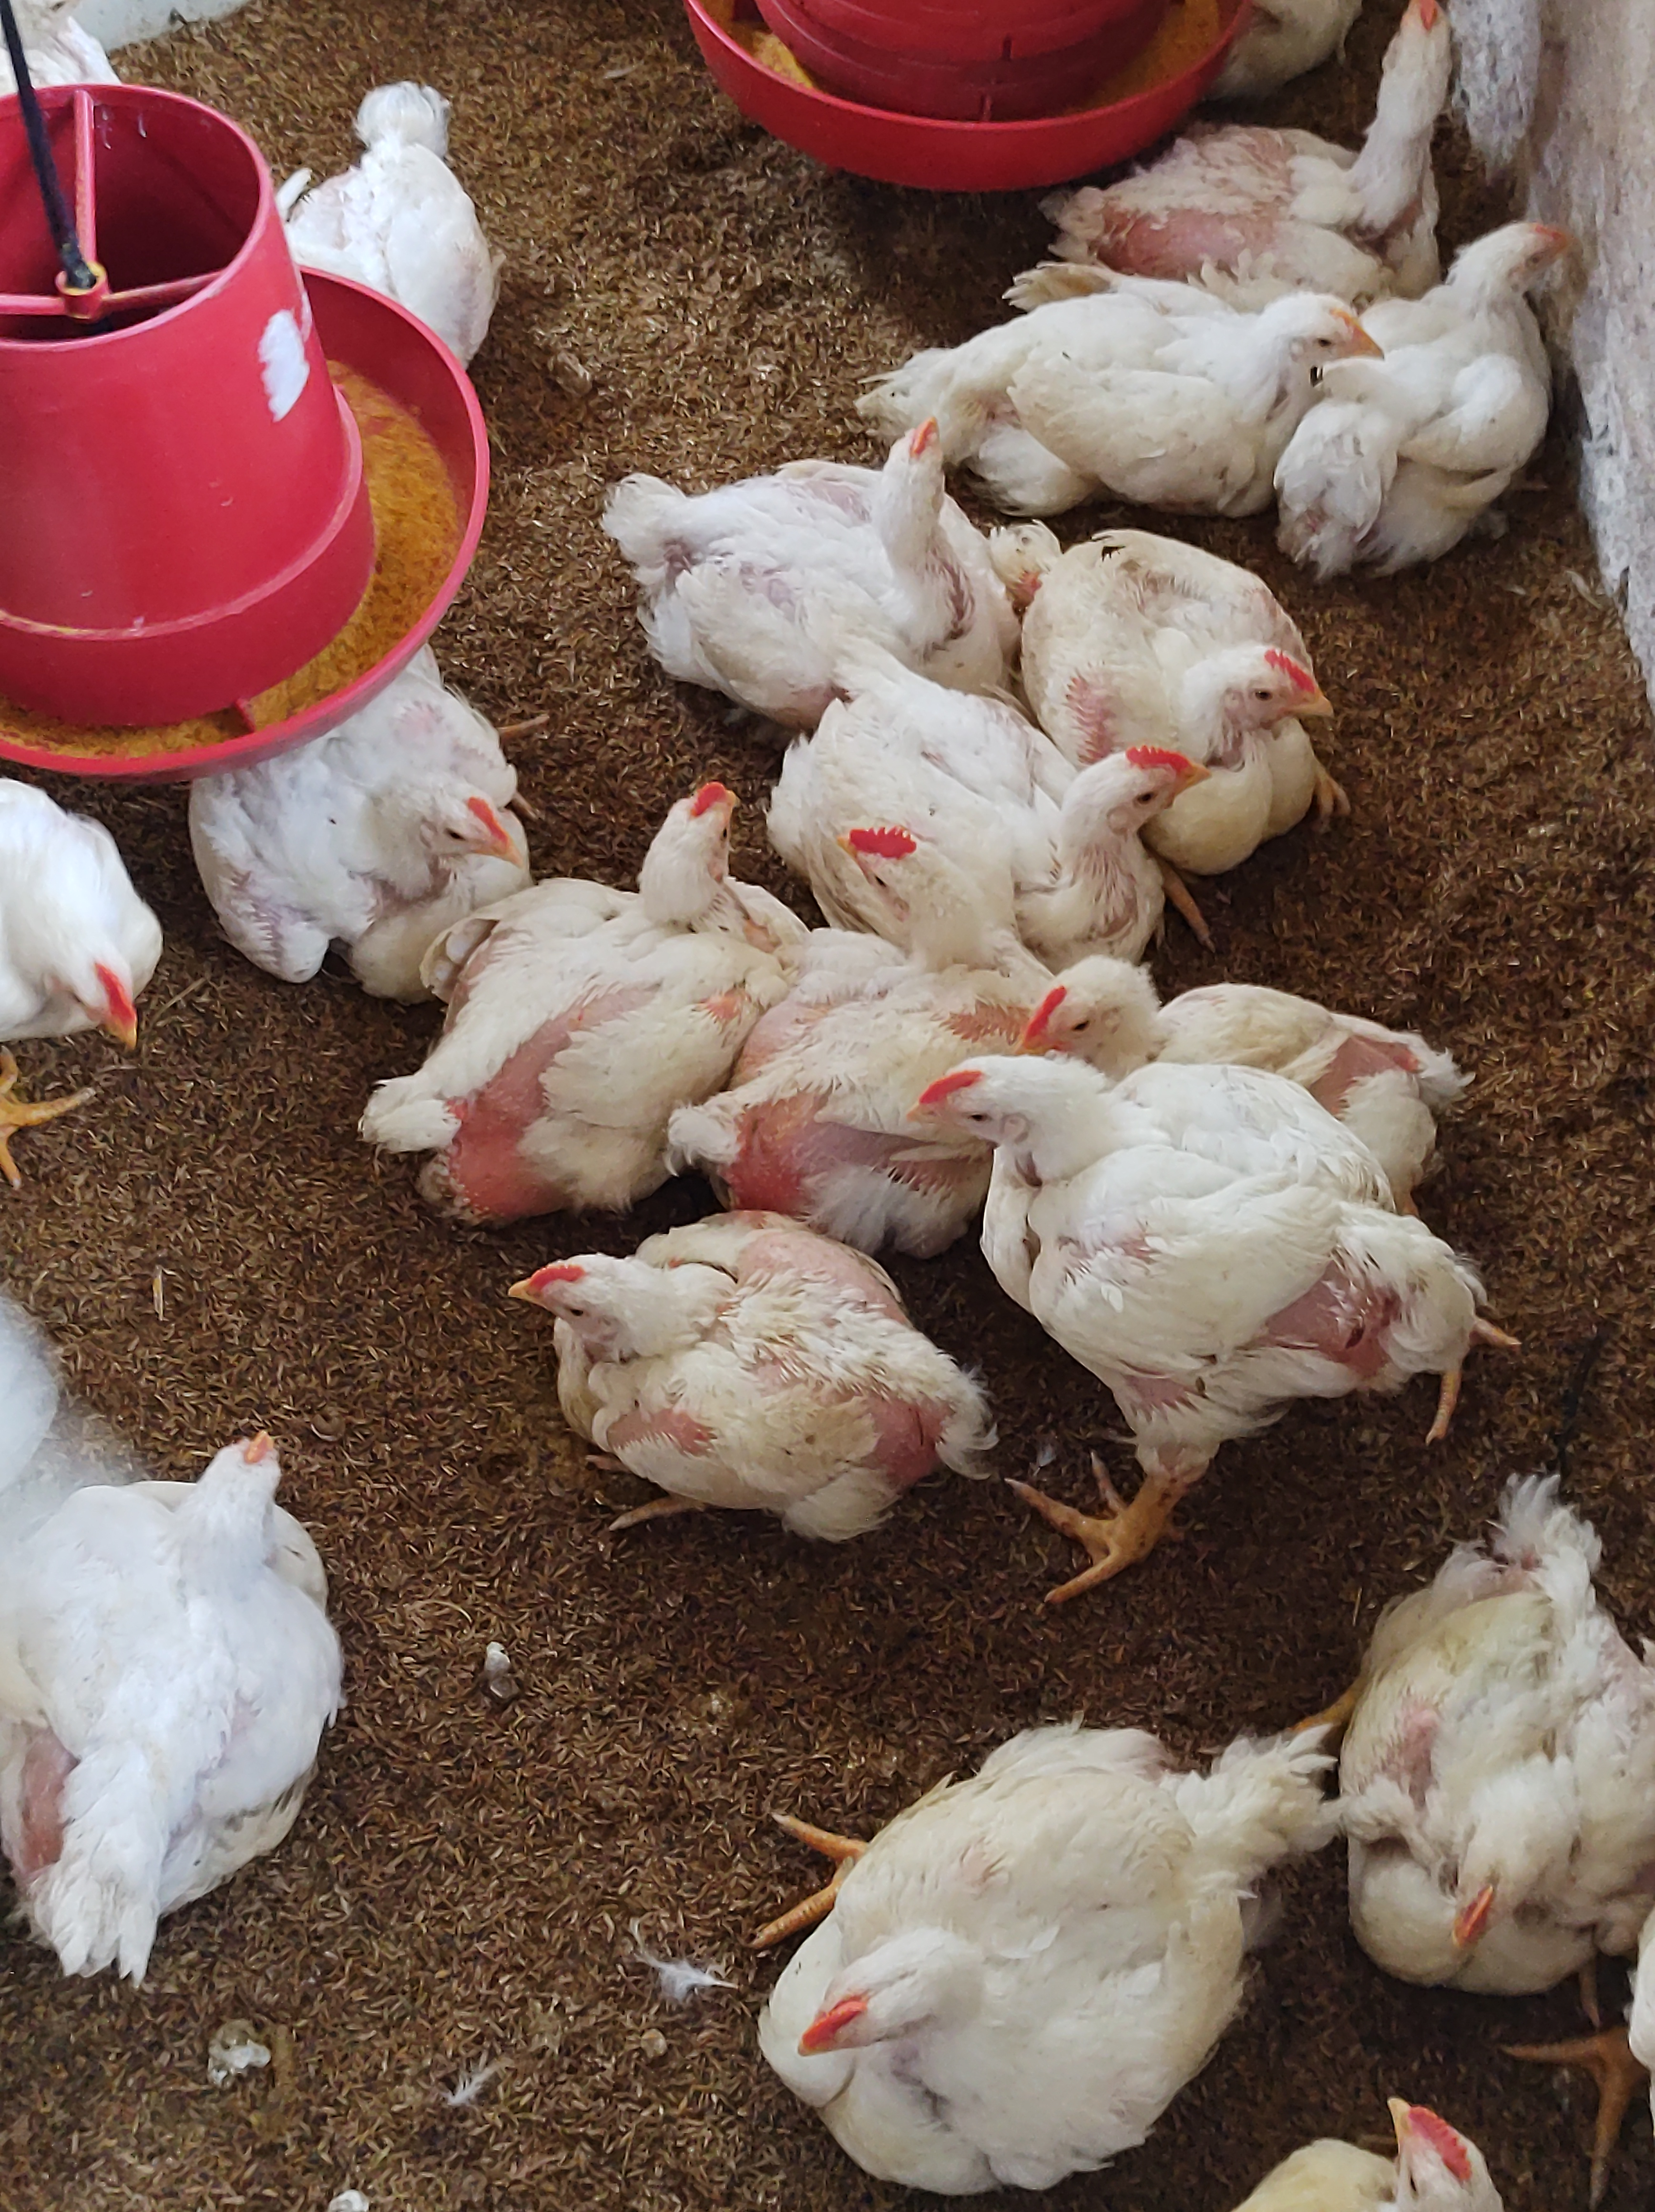Pollos: (716, 1683, 1259, 2198), (890, 1049, 1492, 1469), (0, 1416, 381, 1965), (386, 786, 794, 1203), (494, 1228, 987, 1529), (1351, 1504, 1655, 1989), (172, 596, 546, 979), (600, 403, 998, 675), (1123, 5, 1507, 276), (1031, 941, 1551, 1139), (1015, 499, 1366, 772), (269, 73, 556, 383), (881, 268, 1380, 442), (0, 767, 196, 1111), (1396, 195, 1589, 539), (1253, 2038, 1545, 2212), (1008, 734, 1219, 887), (827, 805, 968, 970)
